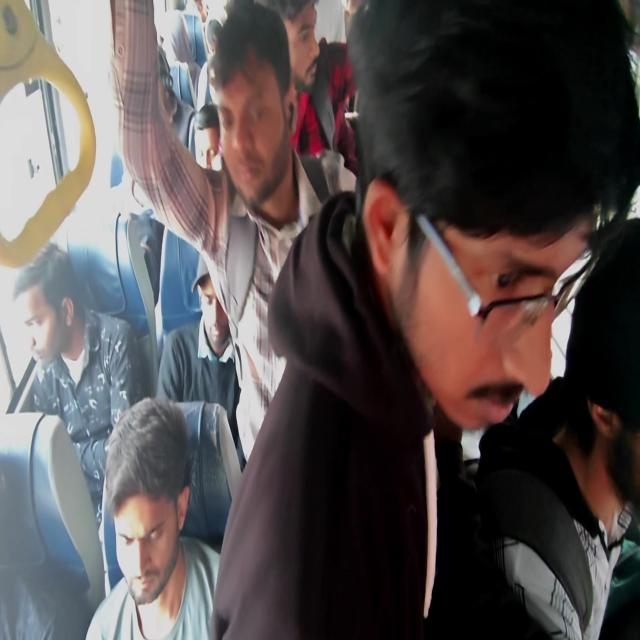person: (359, 15, 640, 419), (221, 69, 361, 360), (532, 242, 640, 524), (118, 444, 232, 640), (171, 276, 263, 391), (27, 269, 99, 380), (189, 104, 237, 184), (144, 61, 181, 130), (148, 32, 195, 70), (202, 21, 232, 55), (207, 70, 230, 109), (172, 0, 208, 16)
